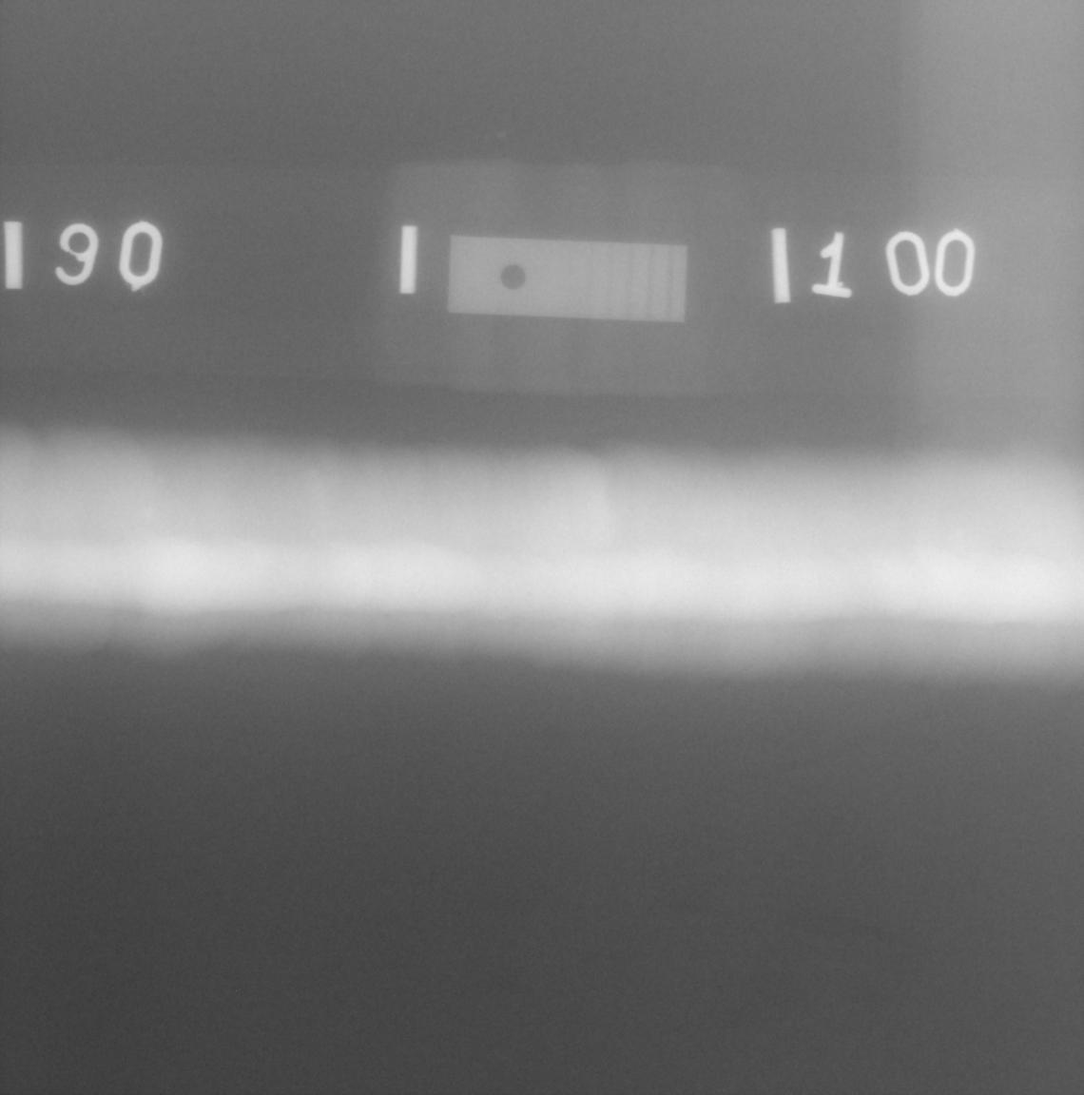Reference Standard 1: (448, 235, 688, 322)
